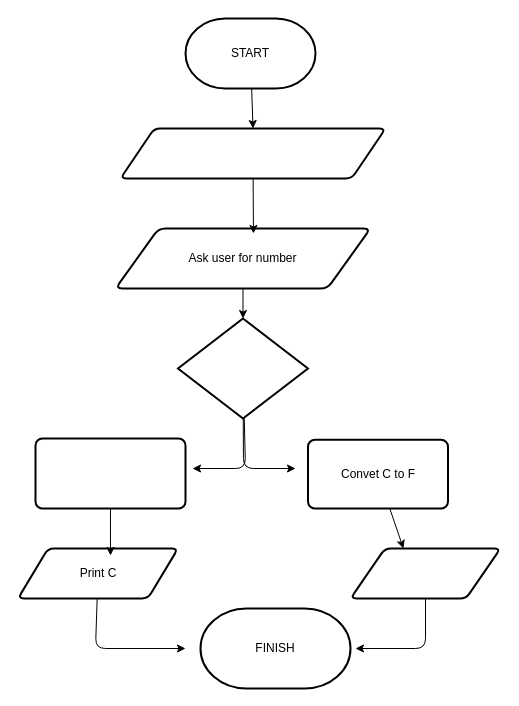
The diagram is 519 pixels wide and 706 high, and some of its shapes have lost their labels. The shapes that lost their labels are listed below. From the top down, each one's centre as x and y in pixels, then its label:
At (252,153): "Ask user for Farenheit to Celsius or Celisus to Farenheit".
At (110,473): "Covert F to C".
At (425,573): "Print F".
